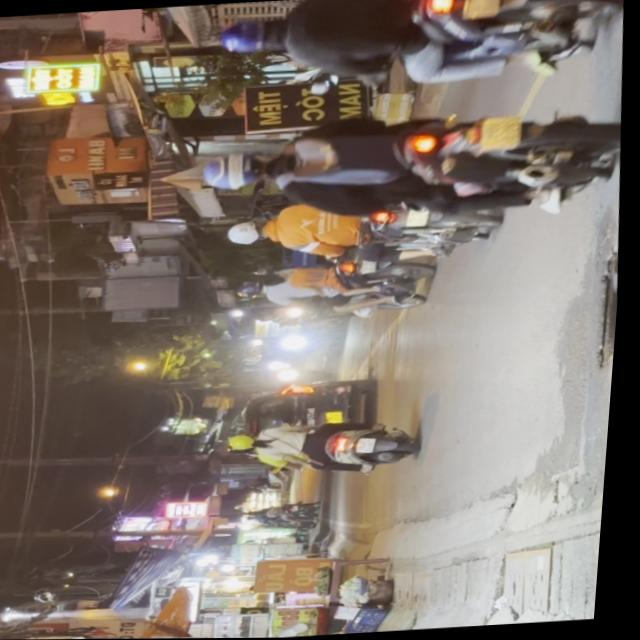helmet: (200, 144, 289, 191), (216, 14, 285, 53), (228, 217, 274, 245), (233, 433, 263, 450)
licenseplate: (193, 96, 628, 238), (211, 0, 621, 98), (223, 189, 507, 269), (228, 415, 428, 480)
nohelmet: (479, 114, 523, 151), (463, 0, 499, 18), (407, 206, 431, 227), (363, 437, 382, 452)
